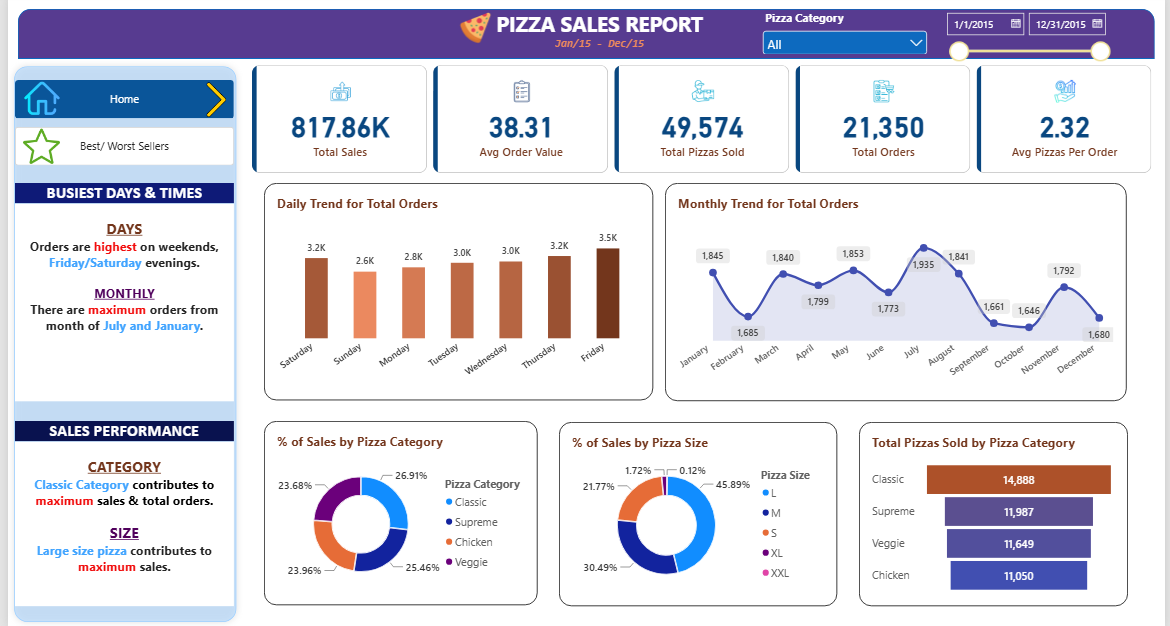

What the dashboard file says about the page in this screenshot:
{"tool":"powerbi","page":{"name":"Home","canvas":[1500,820],"ordinal":0},"visuals":[{"type":"cardVisual","fields":{"Data":["Fact Pizza Sales.Total Sales","Fact Pizza Sales.Avg Order Value","Fact Pizza Sales.Total Pizzas Sold","Fact Pizza Sales.Total Orders","Fact Pizza Sales.Avg Pizzas Per Order"]},"box":[317.1,90,1170,140],"z":0},{"type":"shape","box":[13.1,17.1,1474.7,64.7],"z":1000},{"type":"areaChart","title":"Monthly Trend for Total Orders","fields":{"Category":["Dim Date.Order Date.Variation.Date Hierarchy.Month"],"Y":["Fact Pizza Sales.Total Orders"]},"box":[852.9,242.8,598.7,282.6],"z":2000},{"type":"textbox","box":[596.6,18.4,322,46],"z":3000},{"type":"textbox","box":[710,50,115.6,27.6],"z":4000},{"type":"image","box":[579.5,21,52.6,40.7],"z":5000},{"type":"columnChart","title":"Daily Trend for Total Orders","fields":{"Category":["Dim Date.Day Name"],"Y":["Fact Pizza Sales.Total Orders"]},"box":[331.7,243.3,505.3,282.5],"z":6000},{"type":"shape","box":[0,82.8,304.3,737.1],"z":7000},{"type":"donutChart","title":"% of Sales by Pizza Category","fields":{"Category":["Dim Pizzas.Pizza Category"],"Y":["Fact Pizza Sales.Total Sales"]},"box":[332.5,551.9,355.4,238.7],"z":8000},{"type":"donutChart","title":"% of Sales by Pizza Size","fields":{"Category":["Dim Pizzas.Pizza Size"],"Y":["Fact Pizza Sales.Total Sales"]},"box":[714.9,553.2,360.7,238.7],"z":9000},{"type":"funnel","fields":{"Category":["Dim Pizzas.Pizza Category"],"Y":["Fact Pizza Sales.Total Pizzas Sold"]},"box":[1103.8,553.2,348.8,238.7],"z":10000},{"type":"textbox","box":[9,243.1,283.8,26.3],"z":11000},{"type":"textbox","box":[9.2,269.4,283.8,256.2],"z":12000},{"type":"textbox","box":[9.2,551.9,283.8,26],"z":13000},{"type":"textbox","box":[9.2,578.2,283.8,212.9],"z":14000},{"type":"slicer","fields":{"Values":["Dim Pizzas.Pizza Category"]},"box":[974.4,18.2,223.2,57.1],"z":15000},{"type":"slicer","fields":{"Values":["Dim Date.Order Date"]},"box":[1211.1,17.4,223,72.6],"z":16000},{"type":"pageNavigator","box":[9.1,109,284.1,50.6],"z":16001},{"type":"pageNavigator","box":[9.1,170,284.1,50.6],"z":16002},{"type":"image","box":[247.8,109,45.4,50.6],"z":16003},{"type":"image","box":[19.5,170,48,50.6],"z":16004},{"type":"image","box":[9.1,110.3,70.1,45.4],"z":16005}]}

Visuals, with their boxes in screenshot pixels (x1, y1, x2, y2), scaled from the page's 1500x820 canvas onto the 1170x626 screenshot:
cardVisual - Fact Pizza Sales.Total Sales x Fact Pizza Sales.Avg Order Value: (247, 69, 1160, 176)
shape: (10, 13, 1160, 62)
"Monthly Trend for Total Orders" areaChart: (665, 185, 1132, 401)
textbox: (465, 14, 717, 49)
textbox: (554, 38, 644, 59)
image: (452, 16, 493, 47)
"Daily Trend for Total Orders" columnChart: (259, 186, 653, 401)
shape: (0, 63, 237, 625)
"% of Sales by Pizza Category" donutChart: (259, 421, 537, 604)
"% of Sales by Pizza Size" donutChart: (558, 422, 839, 605)
funnel - Dim Pizzas.Pizza Category x Fact Pizza Sales.Total Pizzas Sold: (861, 422, 1133, 605)
textbox: (7, 186, 228, 206)
textbox: (7, 206, 229, 401)
textbox: (7, 421, 229, 441)
textbox: (7, 441, 229, 604)
slicer - Dim Pizzas.Pizza Category: (760, 14, 934, 57)
slicer - Dim Date.Order Date: (945, 13, 1119, 69)
pageNavigator: (7, 83, 229, 122)
pageNavigator: (7, 130, 229, 168)
image: (193, 83, 229, 122)
image: (15, 130, 53, 168)
image: (7, 84, 62, 119)
